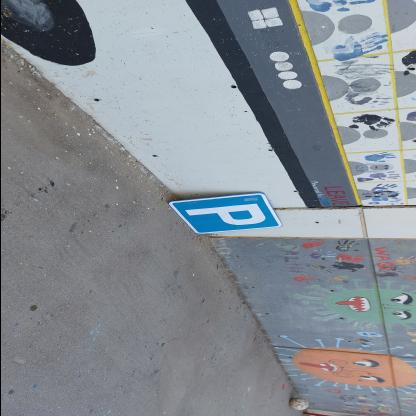Parking-Sign: (164, 193, 283, 237)
